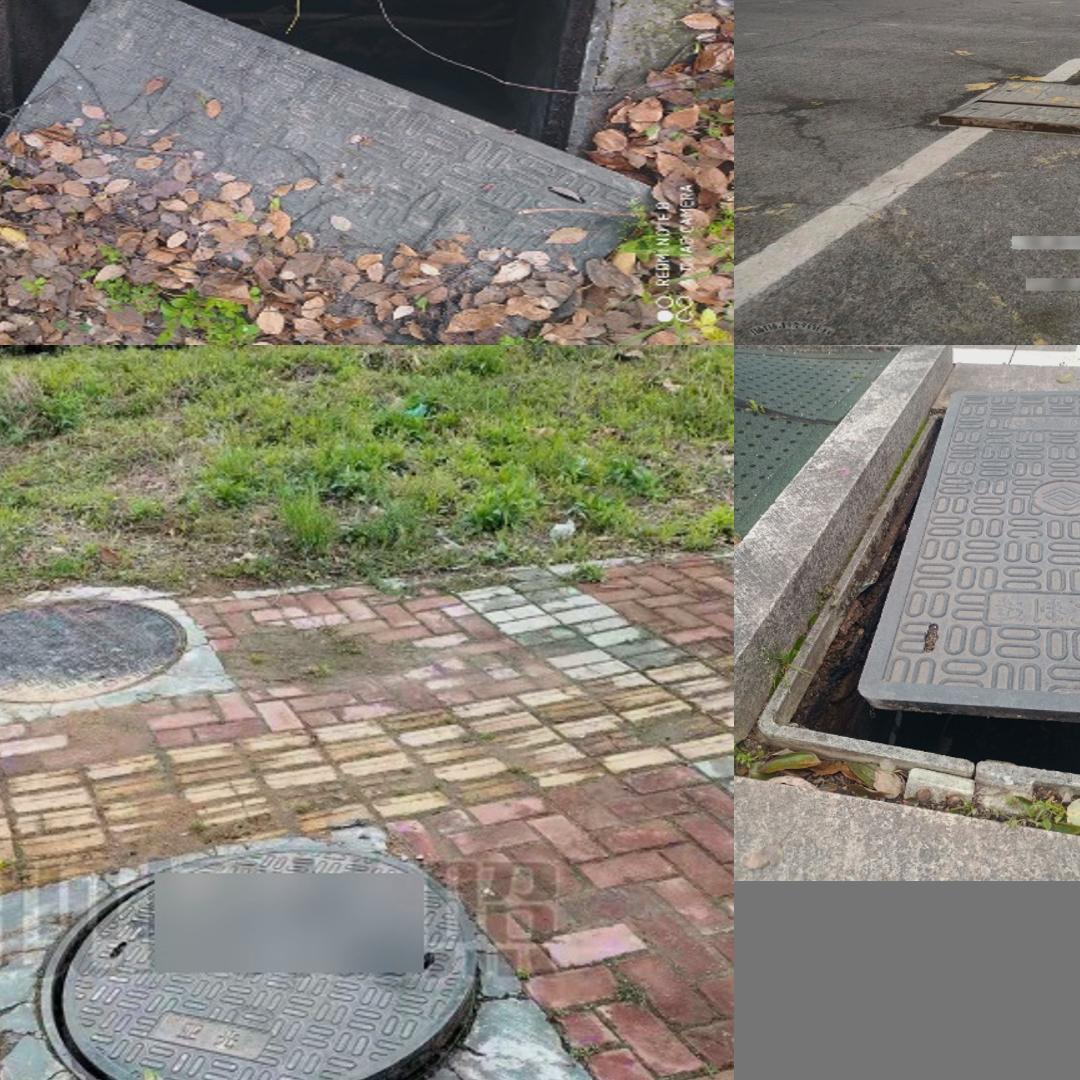good: (0, 600, 187, 701)
lose: (0, 0, 581, 341)
uncovered: (755, 386, 1080, 809), (39, 846, 484, 1080), (929, 80, 1080, 139)
